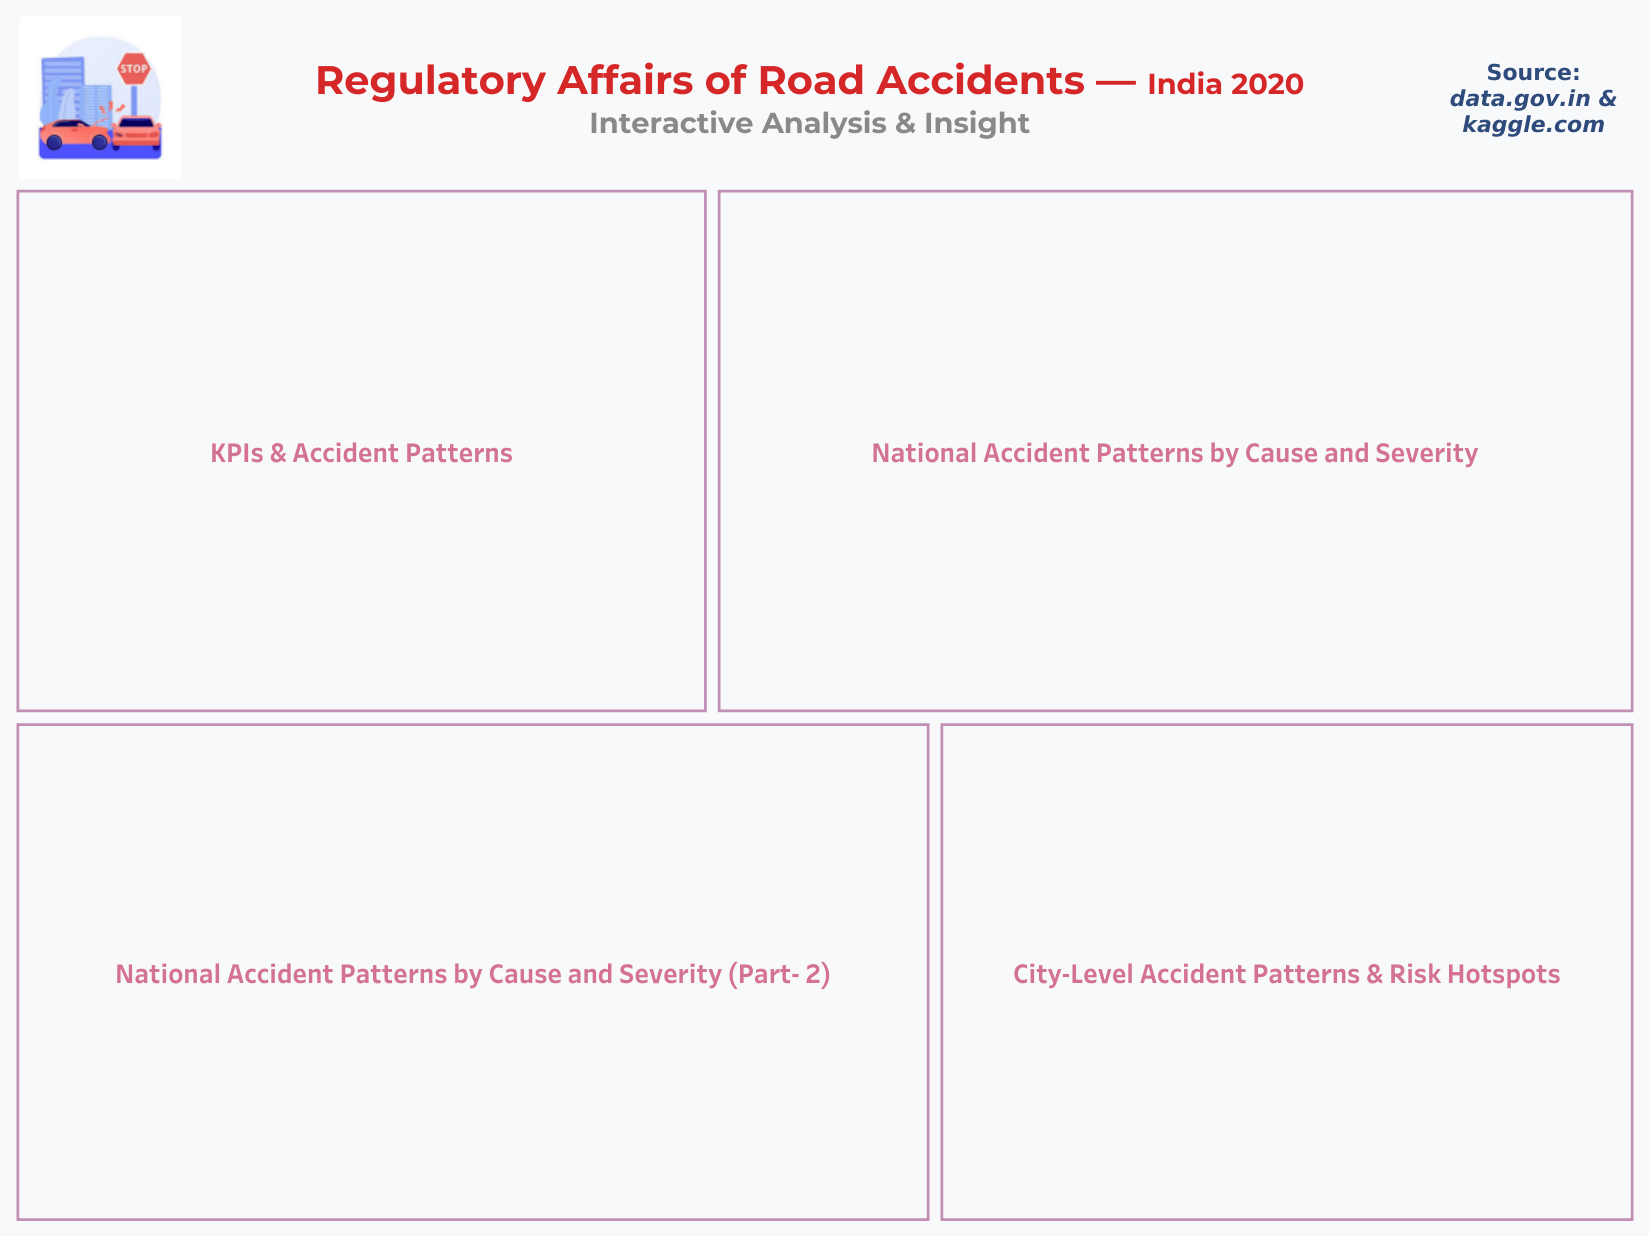

This screenshot's page, from the dashboard's own definition file:
{"tool":"tableau","page":{"name":"Home (Navigation)","canvas":[1200,900],"ordinal":4},"visuals":[{"type":"image","param":"Image/download.jpg","box":[8,8,131.1,126]},{"type":"text","box":[139.1,8,900,126]},{"type":"text","box":[1039.1,8,152.9,126]},{"type":"dashboard-object","box":[8,134,510.1,388]},{"type":"dashboard-object","box":[518.1,134,673.9,388]},{"type":"dashboard-object","box":[8,522,672,370]},{"type":"dashboard-object","box":[680,522,512,370]}]}

Visuals, with their boxes in screenshot pixels (x1, y1, x2, y2), scaled from the page's 1200x900 canvas onto the 1649x1236 screenshot:
image: bbox=[11, 11, 191, 184]
text: bbox=[191, 11, 1428, 184]
text: bbox=[1428, 11, 1638, 184]
dashboard-object: bbox=[11, 184, 712, 717]
dashboard-object: bbox=[712, 184, 1638, 717]
dashboard-object: bbox=[11, 717, 934, 1225]
dashboard-object: bbox=[934, 717, 1638, 1225]
